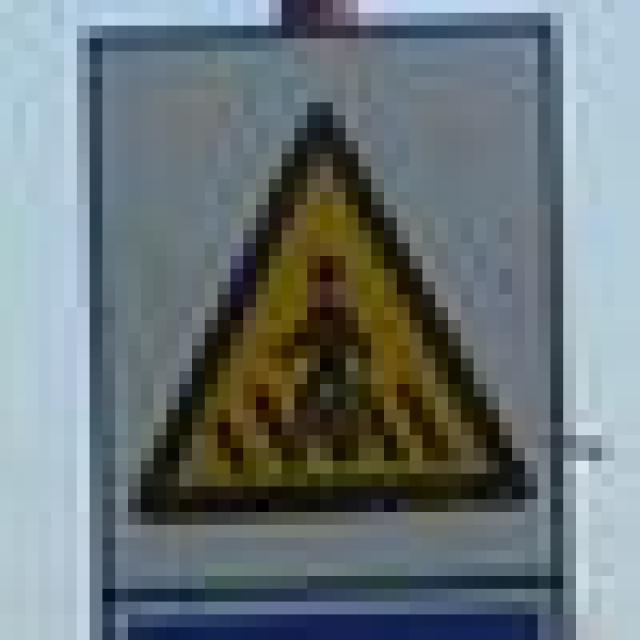pass_either_side: (115, 77, 538, 499)
